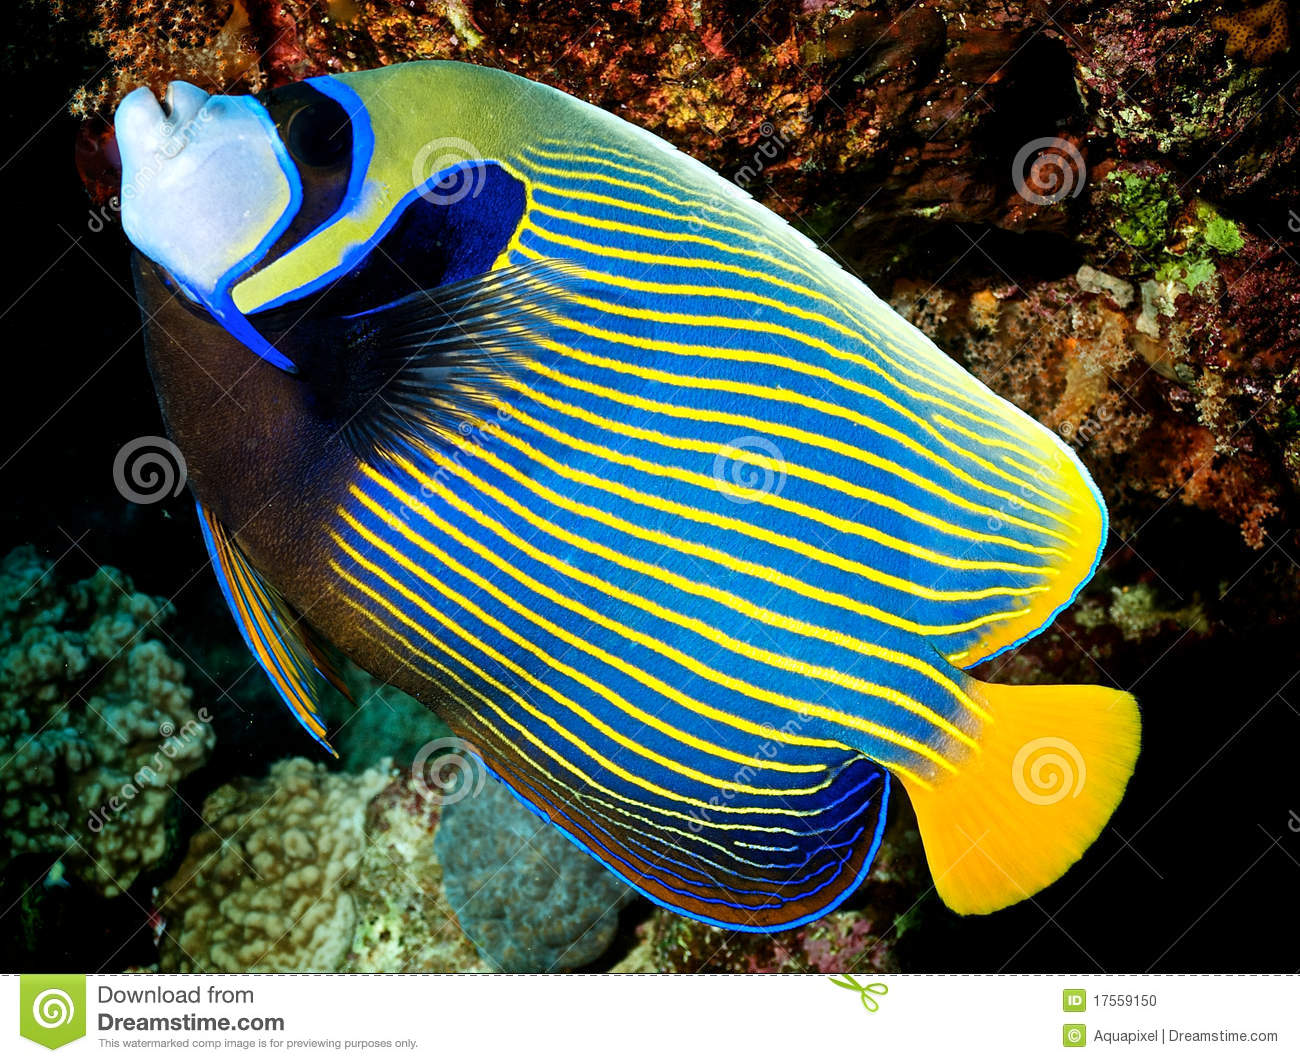Pomacanthus_imperator: (90, 45, 1151, 938)
